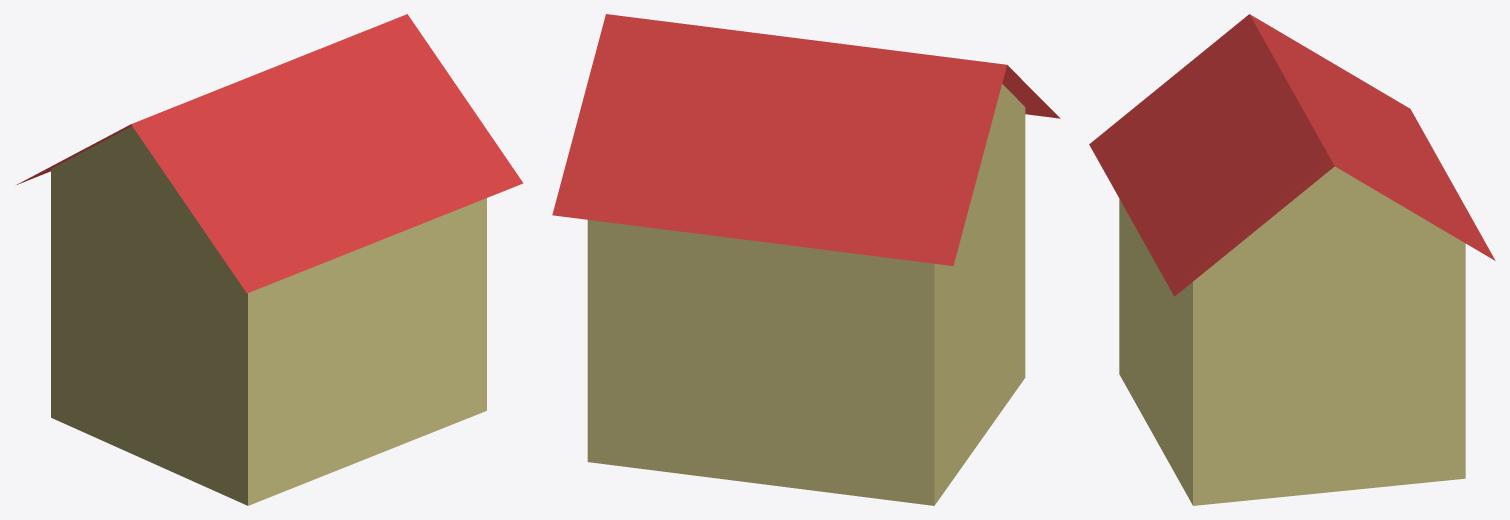
3 renders of one model, left to right at view 1: azimuth 30°, elevation 25°; view 2: azimuth 150°, elevation 25°; view 3: azimuth 270°, elevation 25°, orthographic. The views are drawn at different scales.
Bounding box in the file's own units: 13.01 × 12.12 × 11.06.
